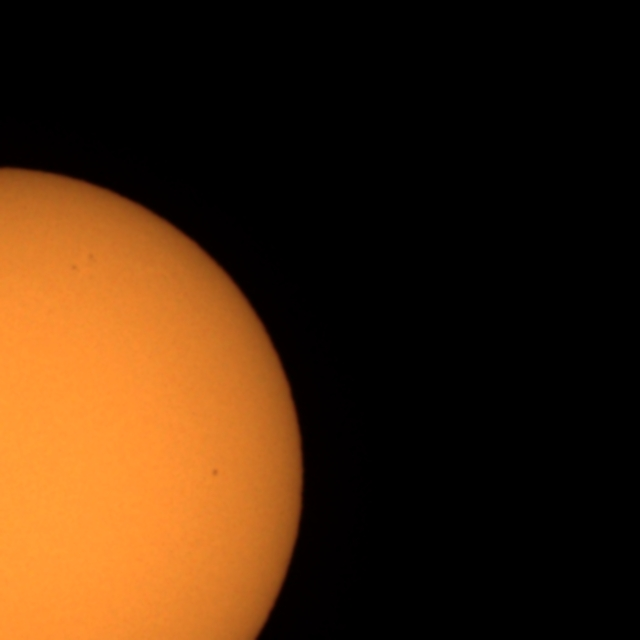sunspot: (69, 252, 97, 274), (209, 466, 221, 480), (69, 262, 80, 274)
